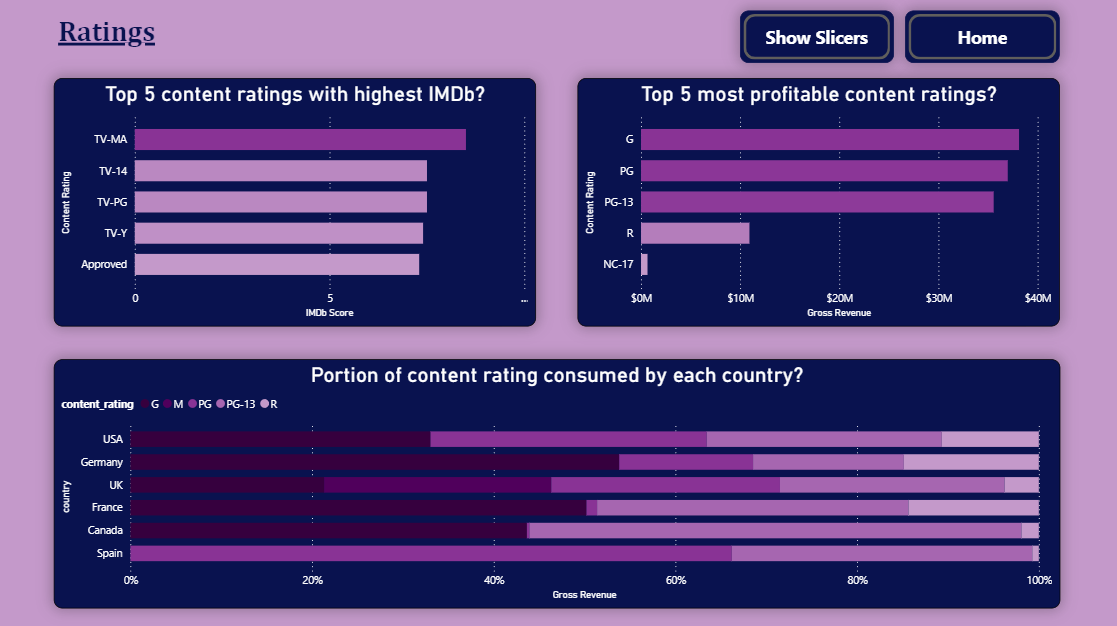

The dashboard page shown, as its layout file describes it:
{"tool":"powerbi","page":{"name":"Content Rating Statistics","canvas":[1280,720],"ordinal":4},"visuals":[{"type":"textbox","box":[61.4,14.3,138.6,61.4],"z":0},{"type":"hundredPercentStackedBarChart","title":"Portion of content rating consumed by each country?","fields":{"Category":["movie_data.country"],"Y":["Median(movie_data.gross)"],"Series":["movie_data.content_rating"]},"box":[61.2,412.5,1150,285],"z":1000},{"type":"barChart","title":"Top 5 most profitable content ratings?","fields":{"Category":["movie_data.content_rating"],"Y":["Median(movie_data.gross)"]},"box":[659.3,92.1,551.1,283.6],"z":2000},{"type":"barChart","title":"Top 5 content ratings with highest IMDb?","fields":{"Category":["movie_data.content_rating"],"Y":["Median(movie_data.imdb_score)"]},"box":[61,92.1,551.1,283.6],"z":3000},{"type":"actionButton","title":"Home Button","box":[1034.3,14,177.1,60],"z":4000},{"type":"actionButton","title":"Show Slicer Button","box":[845.7,14,175.7,60],"z":5000}]}

Visuals, with their boxes in screenshot pixels (x1, y1, x2, y2), scaled from the page's 1280x720 canvas onto the 1117x626 screenshot:
textbox: {"left": 54, "top": 12, "right": 175, "bottom": 66}
"Portion of content rating consumed by each country?" hundredPercentStackedBarChart: {"left": 53, "top": 359, "right": 1057, "bottom": 606}
"Top 5 most profitable content ratings?" barChart: {"left": 575, "top": 80, "right": 1056, "bottom": 327}
"Top 5 content ratings with highest IMDb?" barChart: {"left": 53, "top": 80, "right": 534, "bottom": 327}
"Home Button" actionButton: {"left": 903, "top": 12, "right": 1057, "bottom": 64}
"Show Slicer Button" actionButton: {"left": 738, "top": 12, "right": 891, "bottom": 64}
